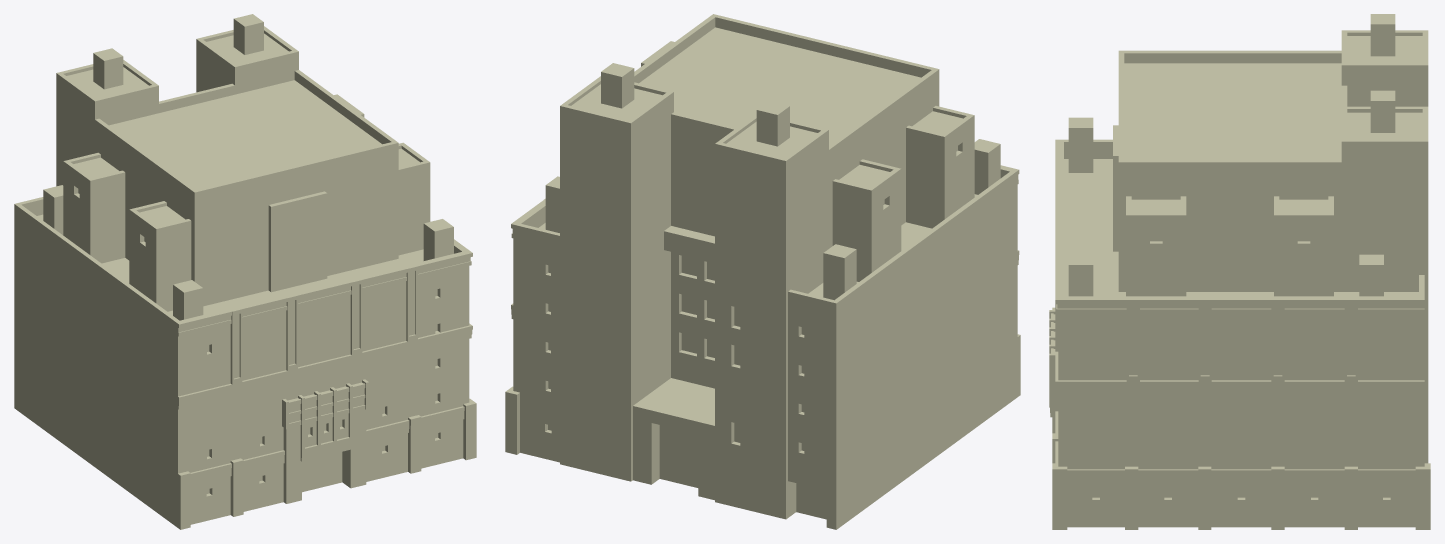
Rendered from Building_Model.glb.
The picture shows the model from 3 angles, left to right: view 1: azimuth 30°, elevation 25°; view 2: azimuth 150°, elevation 25°; view 3: azimuth 270°, elevation 25°; orthographic projection. The views are drawn at different scales.
Visible parts, largest first — view 1: Node1; view 2: Node1; view 3: Node1.
Part boxes in pixels (x1=…): Node1: x1=14, y1=14, x2=476, y2=529; Node1: x1=505, y1=14, x2=1020, y2=529; Node1: x1=1049, y1=14, x2=1430, y2=529.
Size of the model in its own units: 0.1016 by 0.1143 by 0.1012.
